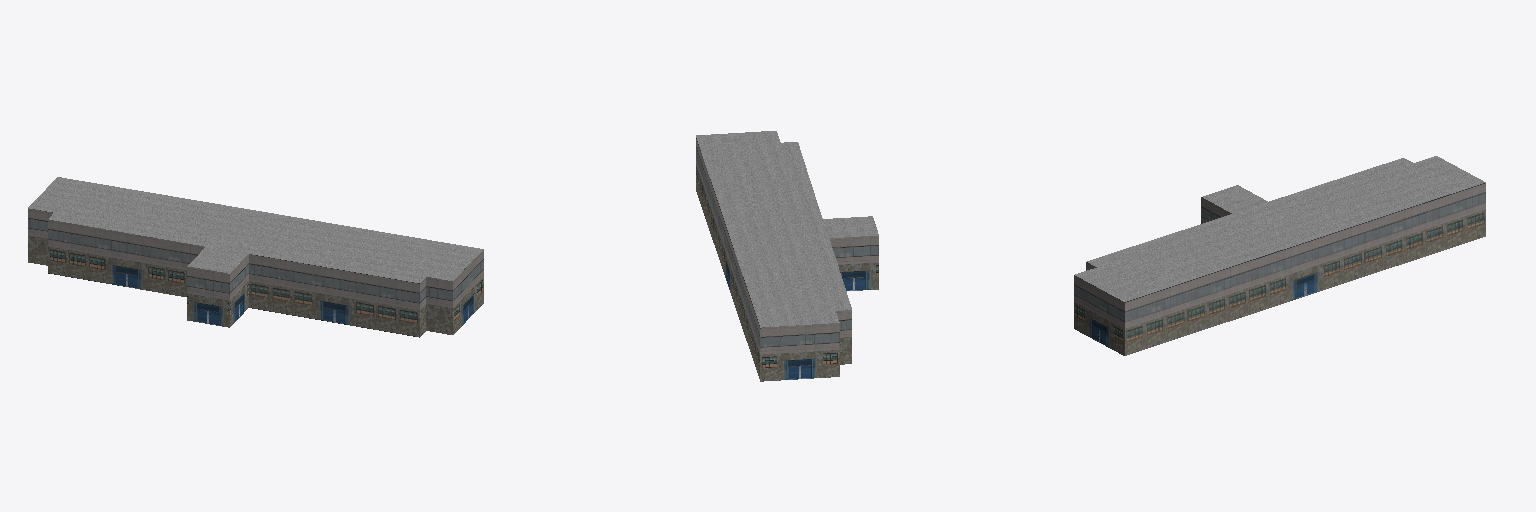
3 renders of one model, left to right at view 1: azimuth 30°, elevation 25°; view 2: azimuth 150°, elevation 25°; view 3: azimuth 270°, elevation 25°, orthographic.
Parts seen in each view (by area): view 1: BuildingMaster_[number redacted]_0, BuildingMaster_[number redacted]_1; view 2: BuildingMaster_[number redacted]_1, BuildingMaster_[number redacted]_0; view 3: BuildingMaster_[number redacted]_0, BuildingMaster_[number redacted]_1.
Part boxes in pixels (x1,y1,x2,y2): BuildingMaster_[number redacted]_0: (28,208,483,337); BuildingMaster_[number redacted]_1: (28,177,483,282); BuildingMaster_[number redacted]_1: (696,131,878,327); BuildingMaster_[number redacted]_0: (696,138,878,381); BuildingMaster_[number redacted]_0: (1074,183,1485,355); BuildingMaster_[number redacted]_1: (1075,156,1485,301).
Bounding box in the file's own units: 40.63 × 7 × 48.31.
Materials: 2 (2 with a texture image).